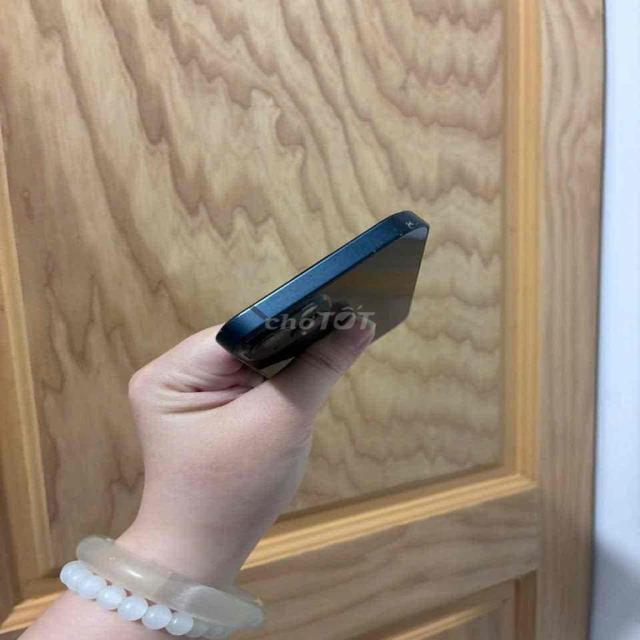gen_12_13: (210, 212, 433, 372)
